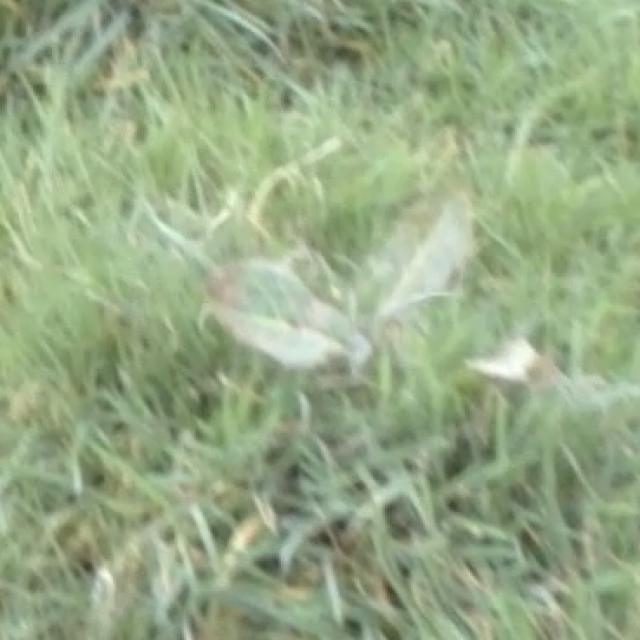organic waste: (152, 168, 614, 453)
